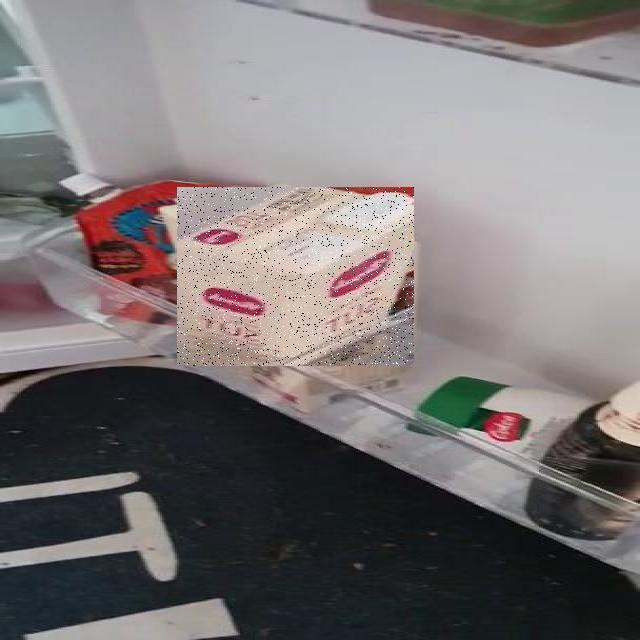milk: (0, 183, 384, 549)
